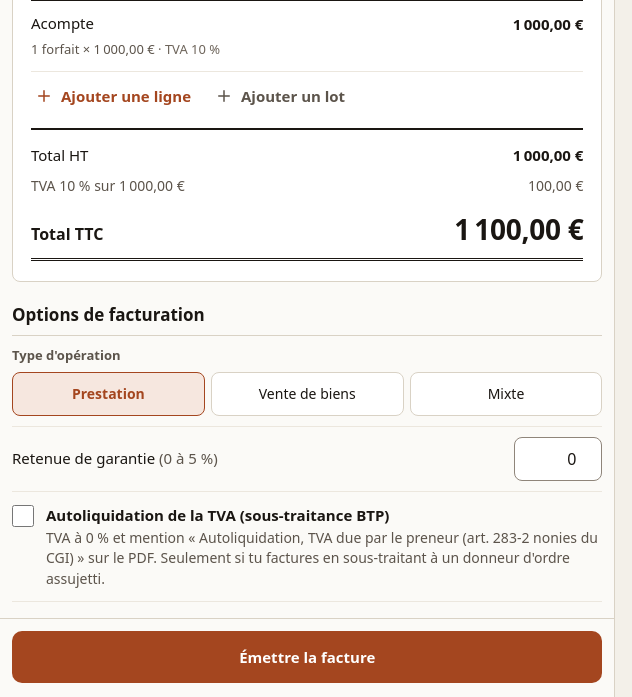
Test: Fiche facture › brouillon : l'émission demande une confirmation qui annonce le verrouillage
(page scrolled)
Click the button "Émettre la facture". click: (307, 657)
box: [12,631,602,683]
(page scrolled)
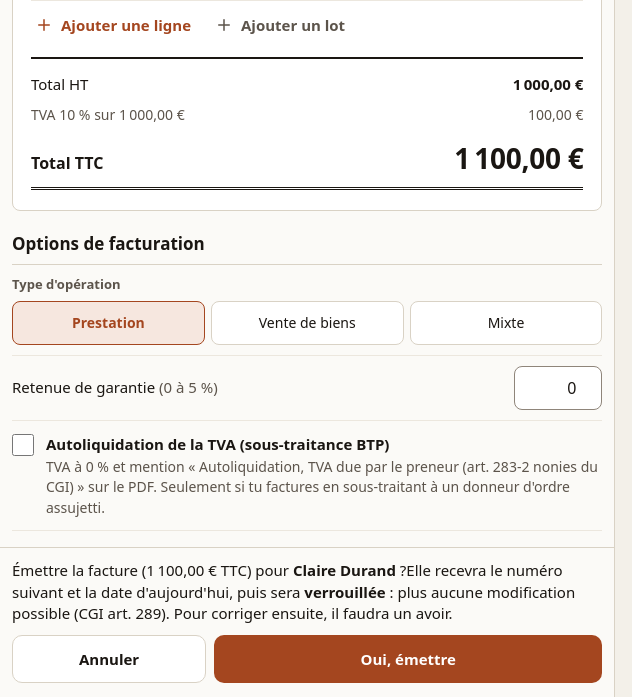
Result: the element named "Confirmer l'émission" shows "numéro suivant et la date d'aujourd'hui" at [12,560,562,602]
Result: the element named "Confirmer l'émission" shows "verrouillée" at [304,582,386,602]
